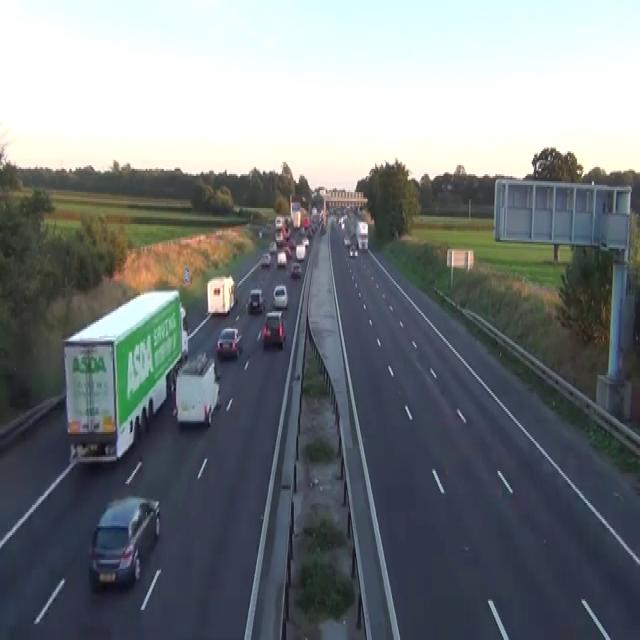Car: (88, 494, 160, 588), (262, 310, 286, 348), (216, 327, 242, 359), (248, 288, 265, 313), (272, 284, 288, 308), (260, 250, 271, 266), (290, 262, 301, 278), (295, 243, 305, 260), (276, 250, 286, 266), (283, 245, 292, 258), (349, 244, 358, 256), (319, 222, 326, 235), (343, 235, 350, 247), (269, 240, 276, 252), (303, 215, 309, 228), (302, 237, 309, 246), (215, 230, 222, 238), (299, 226, 304, 234), (258, 230, 262, 238)
Truck: (62, 288, 188, 464), (174, 352, 219, 427), (206, 274, 236, 314), (355, 220, 368, 250), (290, 201, 301, 227)
